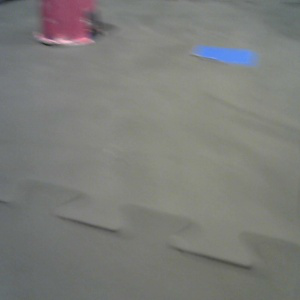middle: (32, 1, 108, 46)
